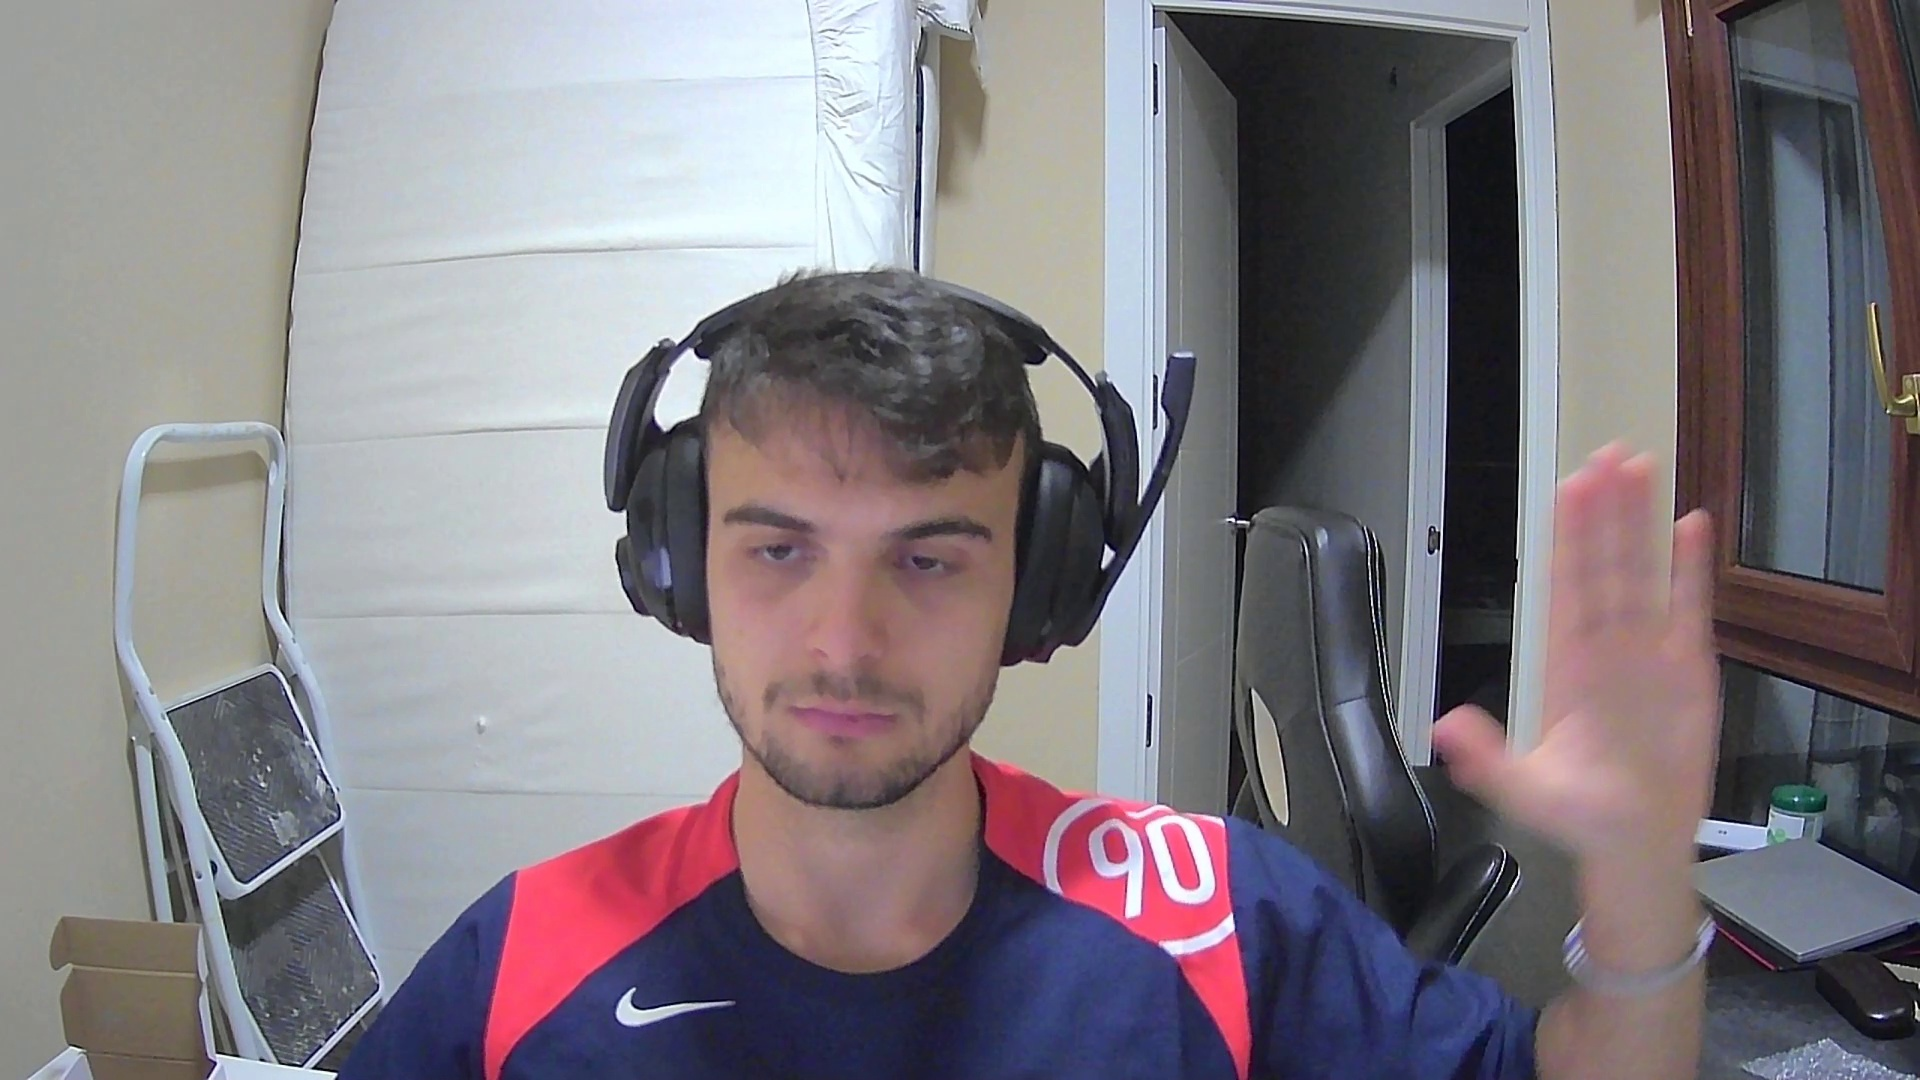Palm: (1437, 444, 1743, 934)
